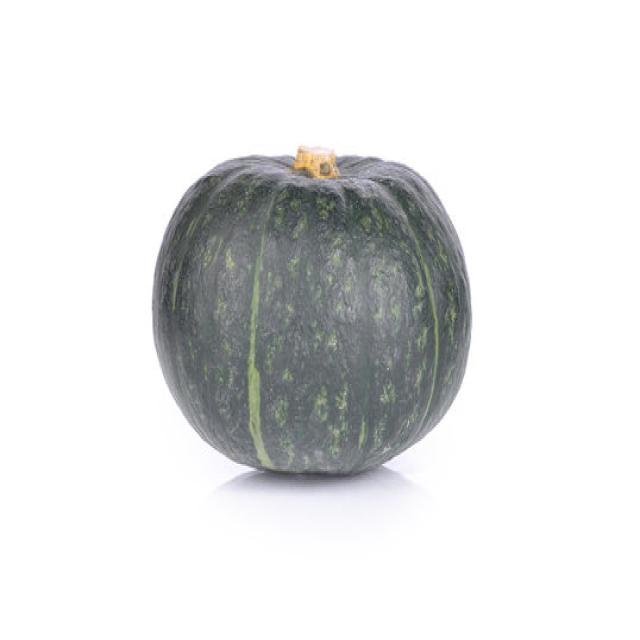Pumpkin: (151, 144, 472, 476)
